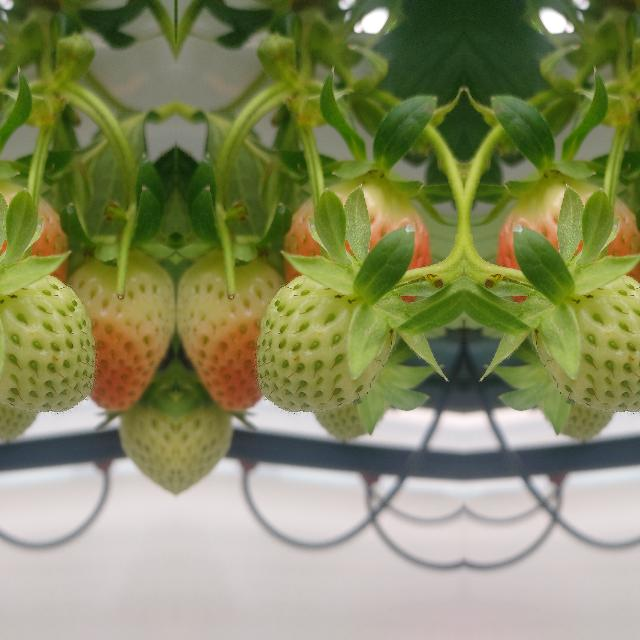Health_25: (255, 274, 395, 412), (531, 274, 640, 411), (0, 274, 95, 411)
Health_75: (489, 164, 640, 314), (286, 164, 436, 314), (180, 233, 286, 413), (64, 233, 170, 413), (0, 164, 64, 314)
